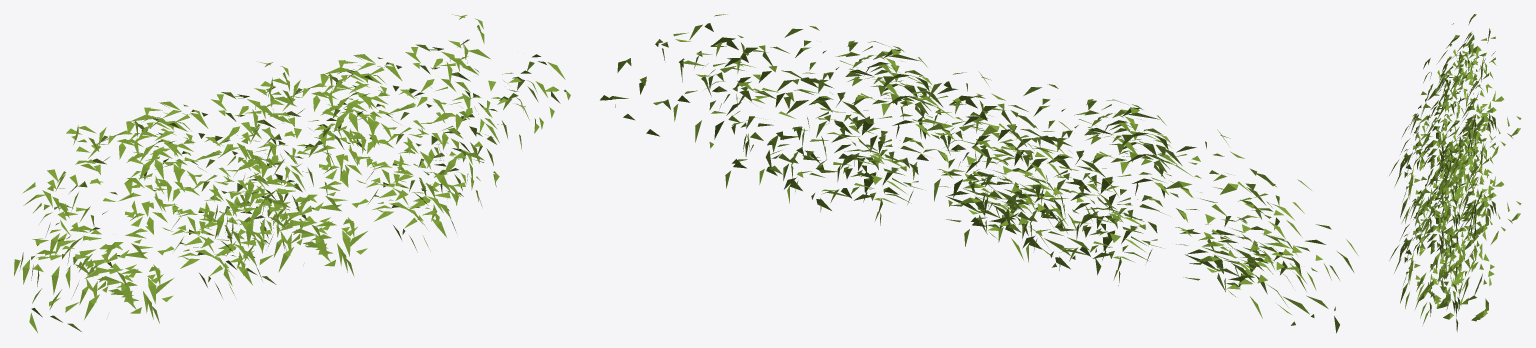
File: 37_openskp_material_70.002.obj
The picture shows the model from 3 angles, left to right: view 1: azimuth 30°, elevation 25°; view 2: azimuth 150°, elevation 25°; view 3: azimuth 270°, elevation 25°; orthographic projection. The views are drawn at different scales.
Visible parts, largest first — view 1: 37_openskp_material_70.002; view 2: 37_openskp_material_70.002; view 3: 37_openskp_material_70.002.
Part boxes in pixels (left/top/right/bottom): 37_openskp_material_70.002: left=14, top=14, right=570, bottom=332; 37_openskp_material_70.002: left=600, top=14, right=1358, bottom=333; 37_openskp_material_70.002: left=1389, top=14, right=1521, bottom=331.
Bounding box in the file's own units: 18.83 × 5.8 × 4.14.
